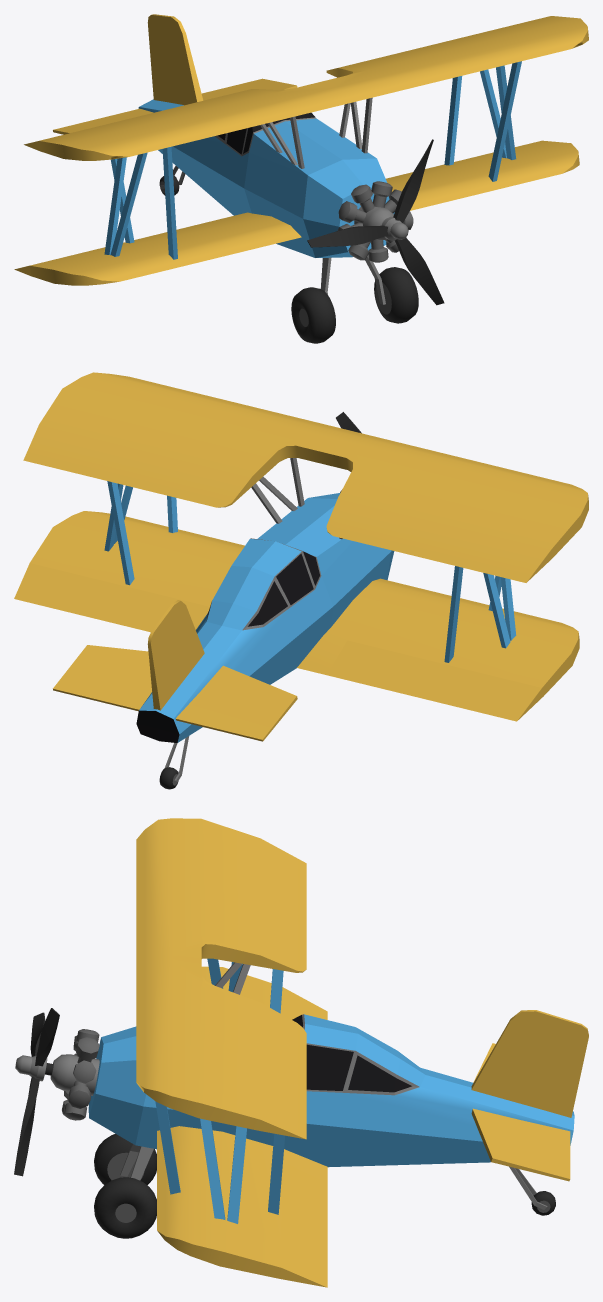
File: Middle_Airplane_03.fbx
The picture shows the model from 3 angles, top to bottom: view 1: azimuth 30°, elevation 25°; view 2: azimuth 150°, elevation 25°; view 3: azimuth 270°, elevation 25°; orthographic projection. The views are drawn at different scales.
Visible parts, largest first — view 1: Middle_Airplane_03, Middle_Airplane_03_Prop, Middle_Airplane_03_Aileron_RR; view 2: Middle_Airplane_03, Middle_Airplane_03_Aileron_FR, Middle_Airplane_03_Aileron_FL, Middle_Airplane_03_Aileron_RR, Middle_Airplane_03_Aileron_RL; view 3: Middle_Airplane_03, Middle_Airplane_03_Aileron_FL, Middle_Airplane_03_Prop, Middle_Airplane_03_Aileron_RL, Middle_Airplane_03_Aileron_FR.
Part boxes in pixels (left/top/right/bottom): Middle_Airplane_03: left=24, top=14, right=588, bottom=343; Middle_Airplane_03_Prop: left=307, top=139, right=444, bottom=305; Middle_Airplane_03_Aileron_RR: left=53, top=110, right=144, bottom=134; Middle_Airplane_03: left=23, top=372, right=588, bottom=789; Middle_Airplane_03_Aileron_FR: left=327, top=640, right=543, bottom=721; Middle_Airplane_03_Aileron_FL: left=14, top=563, right=209, bottom=632; Middle_Airplane_03_Aileron_RR: left=181, top=705, right=272, bottom=741; Middle_Airplane_03_Aileron_RL: left=53, top=676, right=145, bottom=709; Middle_Airplane_03: left=50, top=818, right=588, bottom=1278; Middle_Airplane_03_Aileron_FL: left=279, top=1162, right=327, bottom=1287; Middle_Airplane_03_Prop: left=14, top=1008, right=59, bottom=1176; Middle_Airplane_03_Aileron_RL: left=543, top=1127, right=570, bottom=1181; Middle_Airplane_03_Aileron_FR: left=281, top=987, right=327, bottom=1019.
Size of the model in its own units: 1311 by 556 by 1119.
